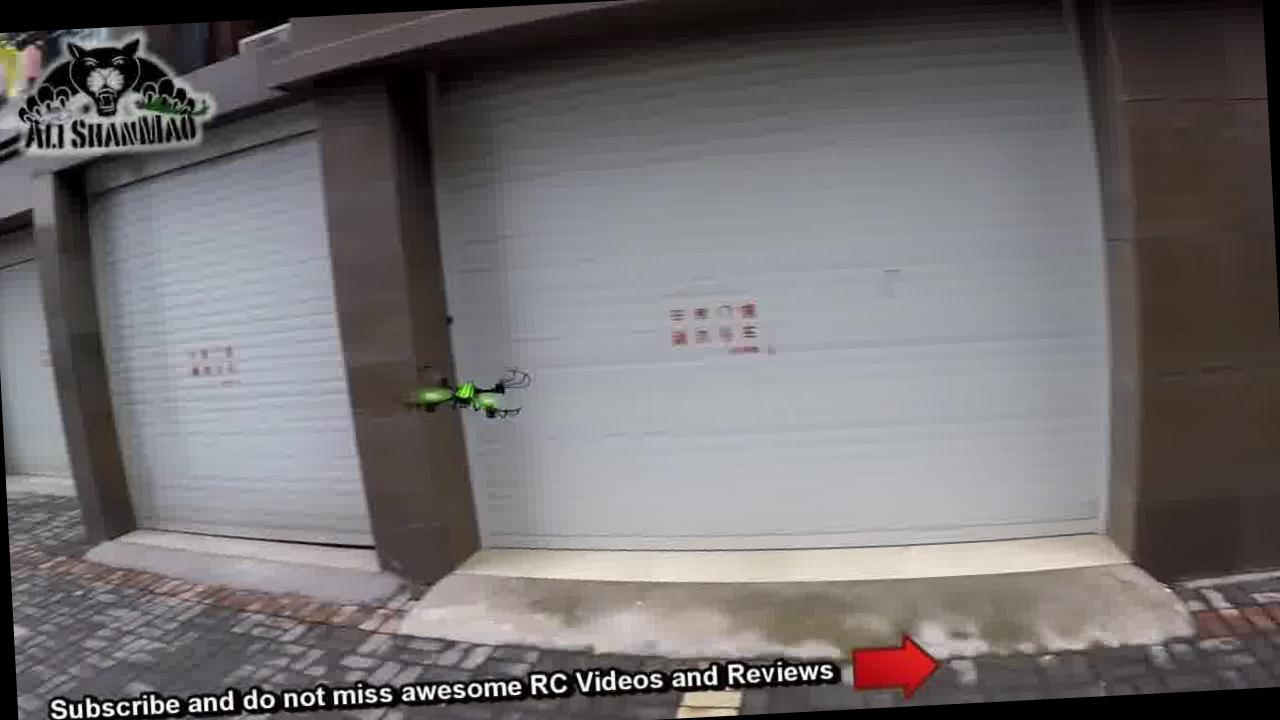drone: (393, 340, 555, 439)
